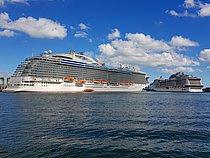Ship: (1, 47, 154, 98), (148, 71, 209, 97)
